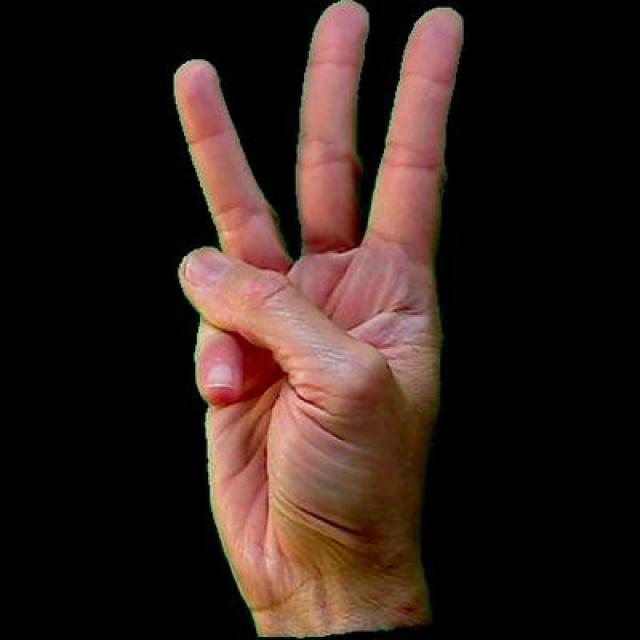w: (150, 0, 483, 637)
